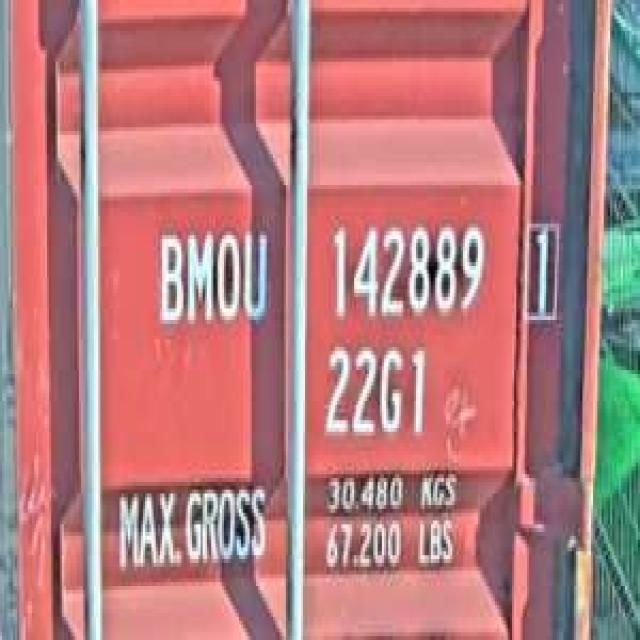dv: (521, 212, 563, 328)
owner: (154, 220, 271, 335)
serial: (322, 212, 491, 328)
size: (318, 336, 431, 448)
